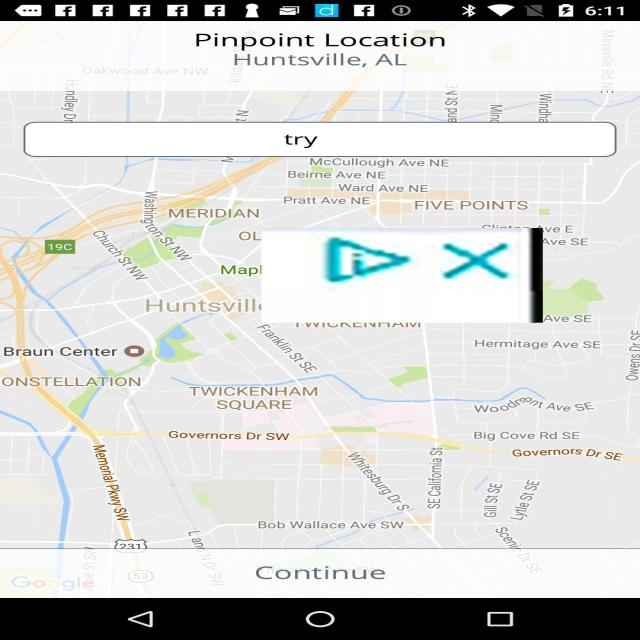sneaking: (261, 228, 543, 323)
